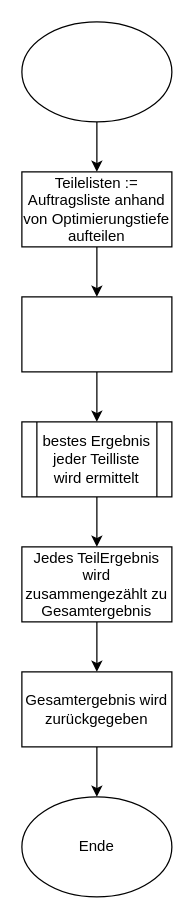
Some shapes in this 194 by 919 pixel diagram are drawn without their labels. The shapes that lost their labels are listed below. From the top down, each one's box as (x1, y1, x2, y2) in pixels, then its label:
(21, 21, 172, 122): Start
(21, 296, 172, 372): Für jede Teilliste wird ein Thread erstellt
